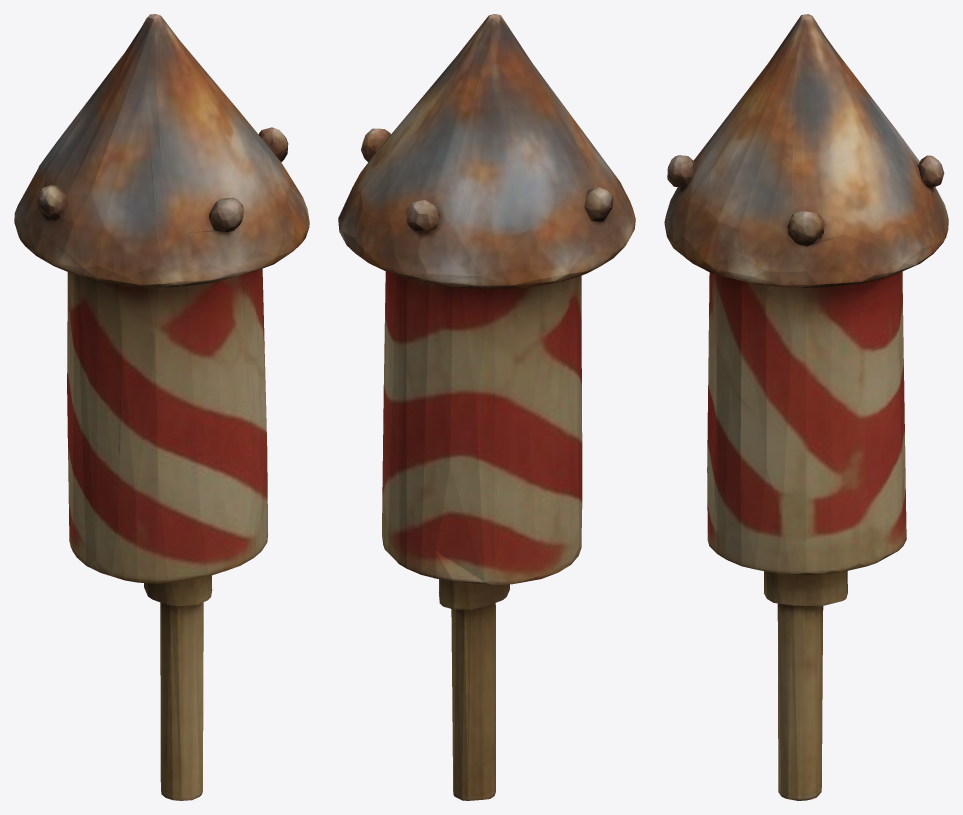
The model's file is firework.glb.
3 views of the same model, side by side, from view 1: azimuth 30°, elevation 25°; view 2: azimuth 150°, elevation 25°; view 3: azimuth 270°, elevation 25° (orthographic). The views are drawn at different scales.
Parts seen in each view (by area): view 1: geometry_0; view 2: geometry_0; view 3: geometry_0.
Boxes of the visible parts, box(x1,y1,x2,y2) form: geometry_0: box(14, 14, 309, 800); geometry_0: box(338, 14, 635, 800); geometry_0: box(664, 14, 948, 800).
Size of the model in its own units: 0.3406 by 1 by 0.3365.
Materials: 1 (1 with a texture image).
